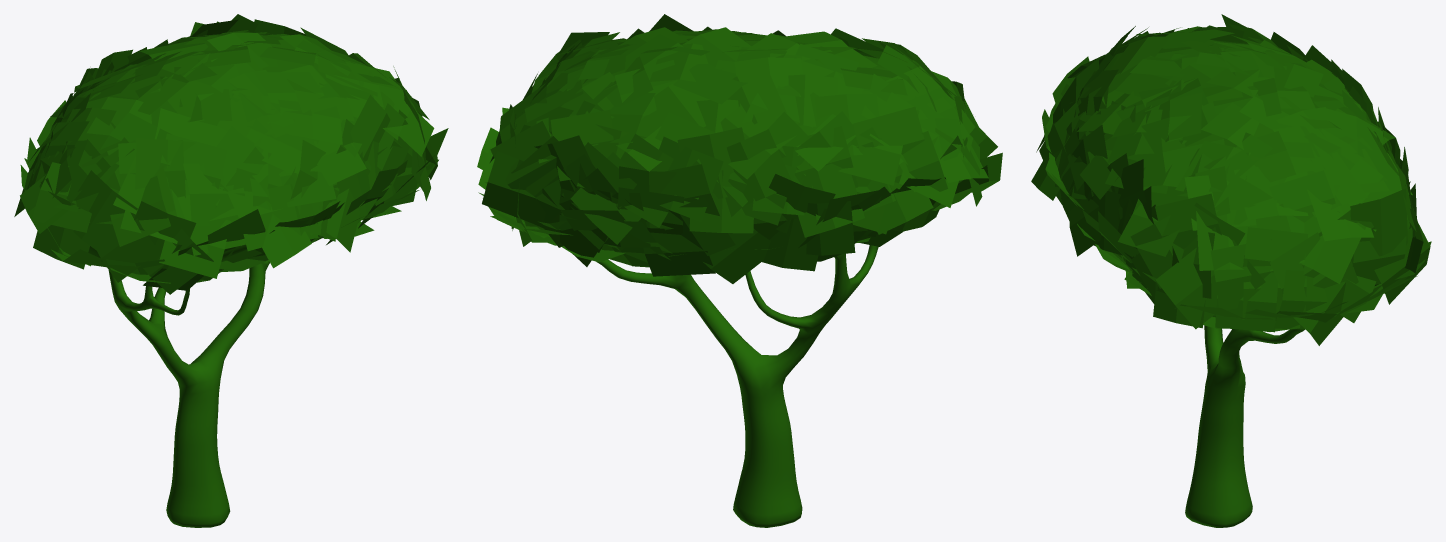
Rendered from top_agac_01.fbx.
The picture shows the model from 3 angles, left to right: view 1: azimuth 30°, elevation 25°; view 2: azimuth 150°, elevation 25°; view 3: azimuth 270°, elevation 25°; orthographic projection. The views are drawn at different scales.
Parts seen in each view (by area): view 1: top_ahac_01; view 2: top_ahac_01; view 3: top_ahac_01.
Boxes of the visible parts, left/top/right/bottom form: top_ahac_01: left=14, top=14, right=448, bottom=527; top_ahac_01: left=477, top=14, right=1002, bottom=527; top_ahac_01: left=1031, top=14, right=1431, bottom=527.
Size of the model in its own units: 11.01 by 8.61 by 10.91.
